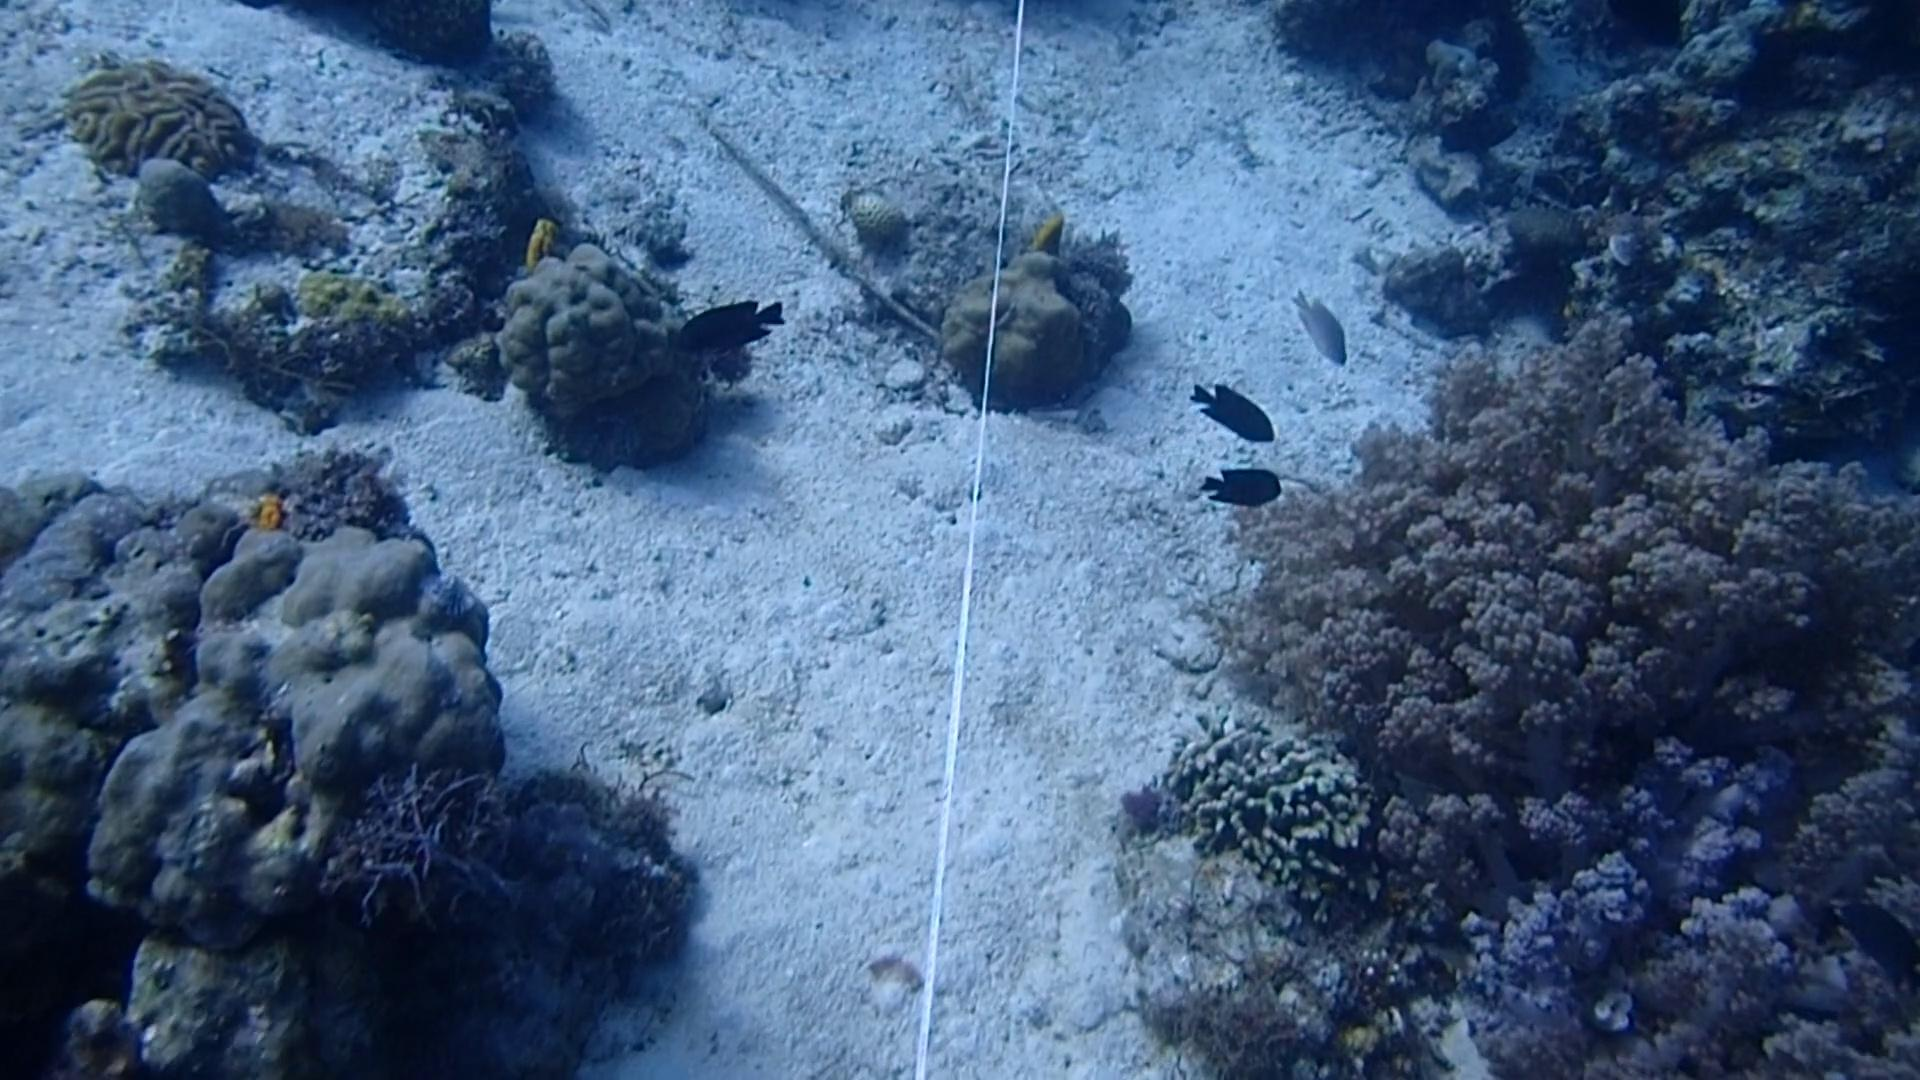Dark Fish: (1170, 363, 1290, 448), (659, 286, 793, 356), (1837, 897, 1920, 998), (1184, 459, 1288, 516)
Light Fish: (1284, 278, 1358, 368)
